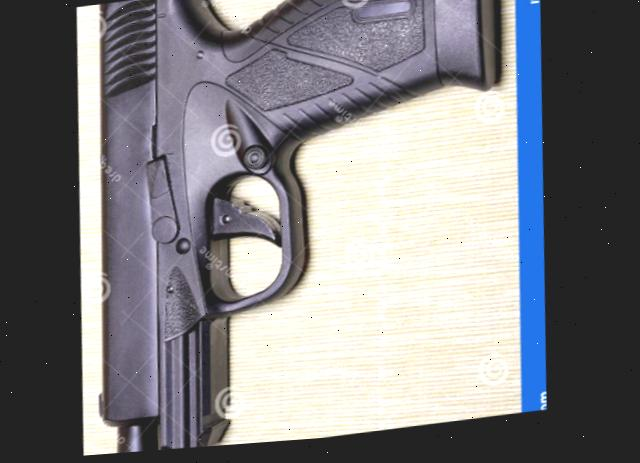pistol: (76, 0, 523, 458)
